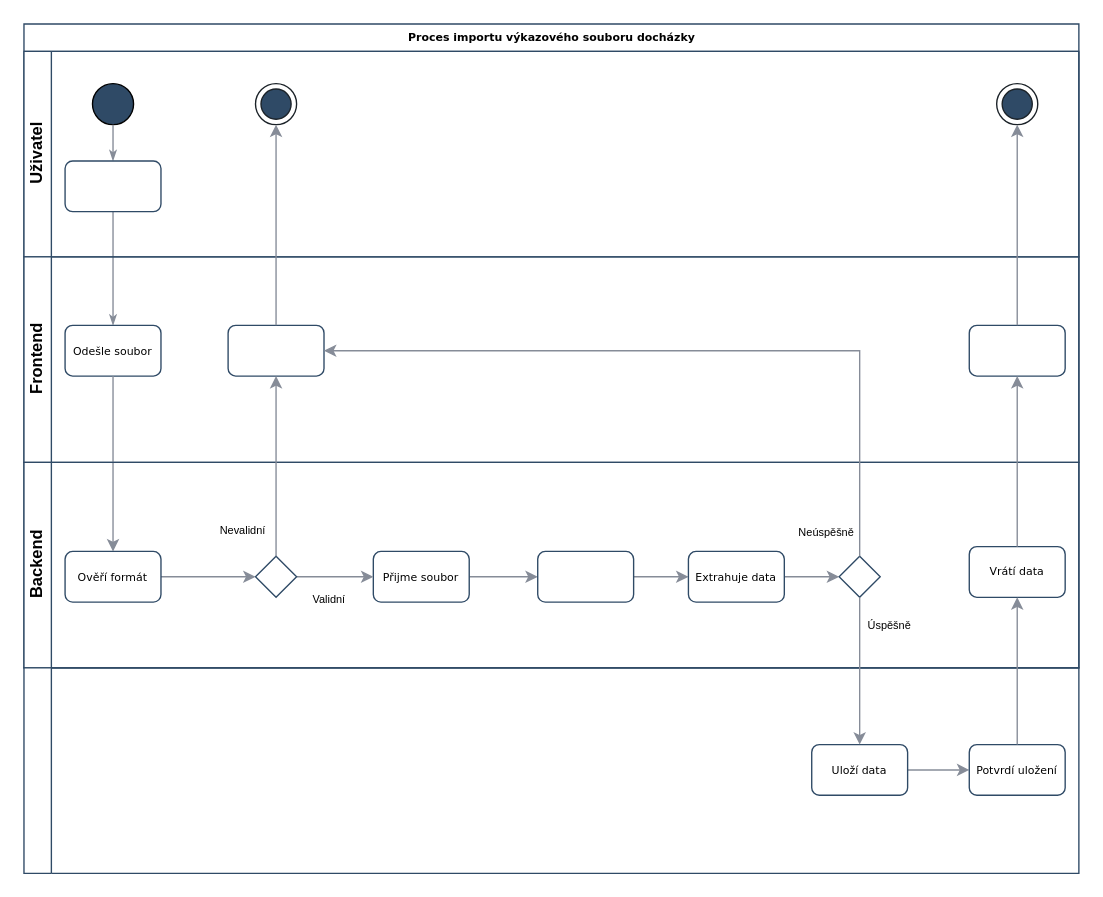
Image size: 1103x897. Some labels were removed from this diagram. Here are the shapes that lost their labels. From the top down, the box of each, then its label:
(64, 160, 161, 212): Vybere soubor (.xls / .xlsx)
(227, 324, 324, 376): Zobrazí hlášku
(968, 324, 1065, 376): Zobrazí data
(536, 550, 634, 602): Načte soubor
(23, 667, 1079, 873): Databáze
